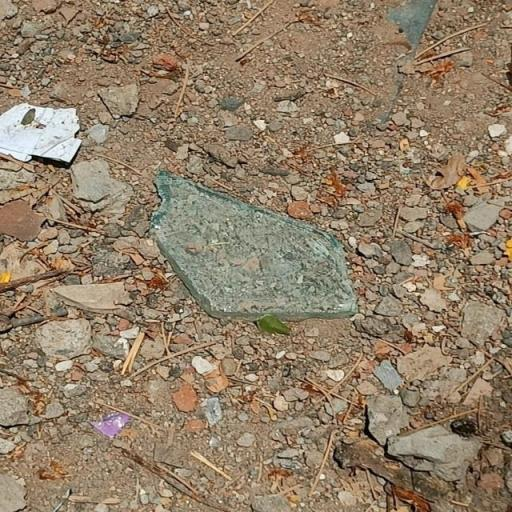glass: (118, 166, 365, 333)
